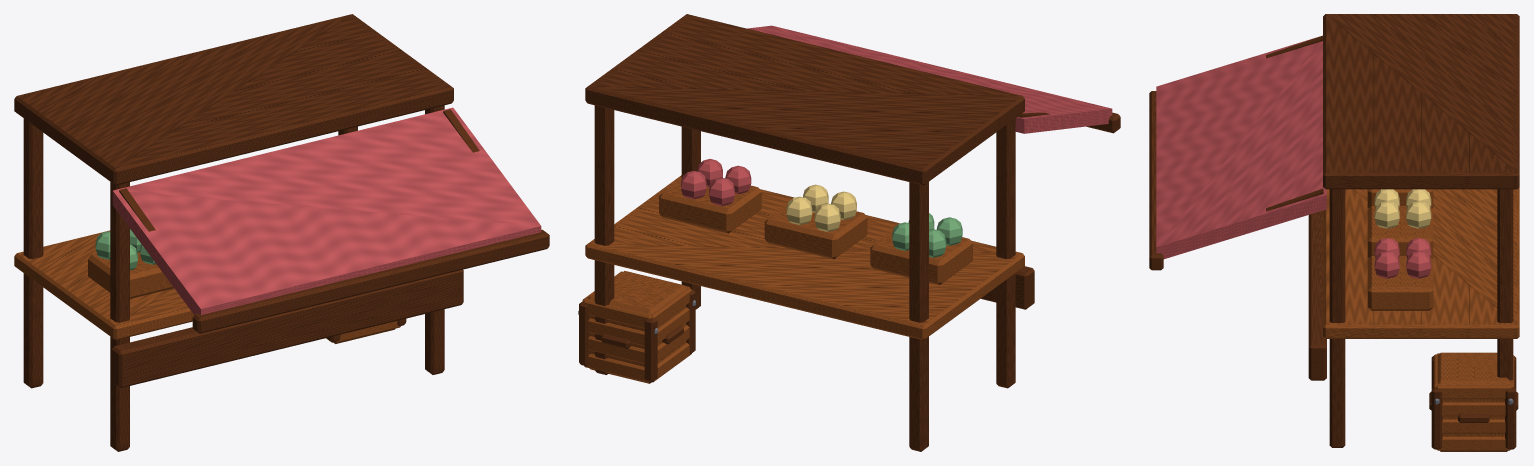
The model's file is fantasy-mmo-city-and-townsfolk-market-stall-5d9f093b.glb.
The picture shows the model from 3 angles, left to right: view 1: azimuth 30°, elevation 25°; view 2: azimuth 150°, elevation 25°; view 3: azimuth 270°, elevation 25°; orthographic projection. The views are drawn at different scales.
Parts seen in each view (by area): view 1: market-stall, awning/red, awning/timber; view 2: market-stall, awning/red; view 3: market-stall, awning/red, awning/timber.
Part boxes in pixels (x1,y1,x2,y2): market-stall: (14,14,463,451); awning/red: (112,107,541,314); awning/timber: (119,109,549,333); market-stall: (578,14,1034,451); awning/red: (747,25,1112,133); market-stall: (1308,14,1519,451); awning/red: (1156,36,1326,259); awning/timber: (1149,35,1323,270).
Size of the model in its own units: 3.04 by 2.34 by 2.82.
Materials: 6 (3 with a texture image).
